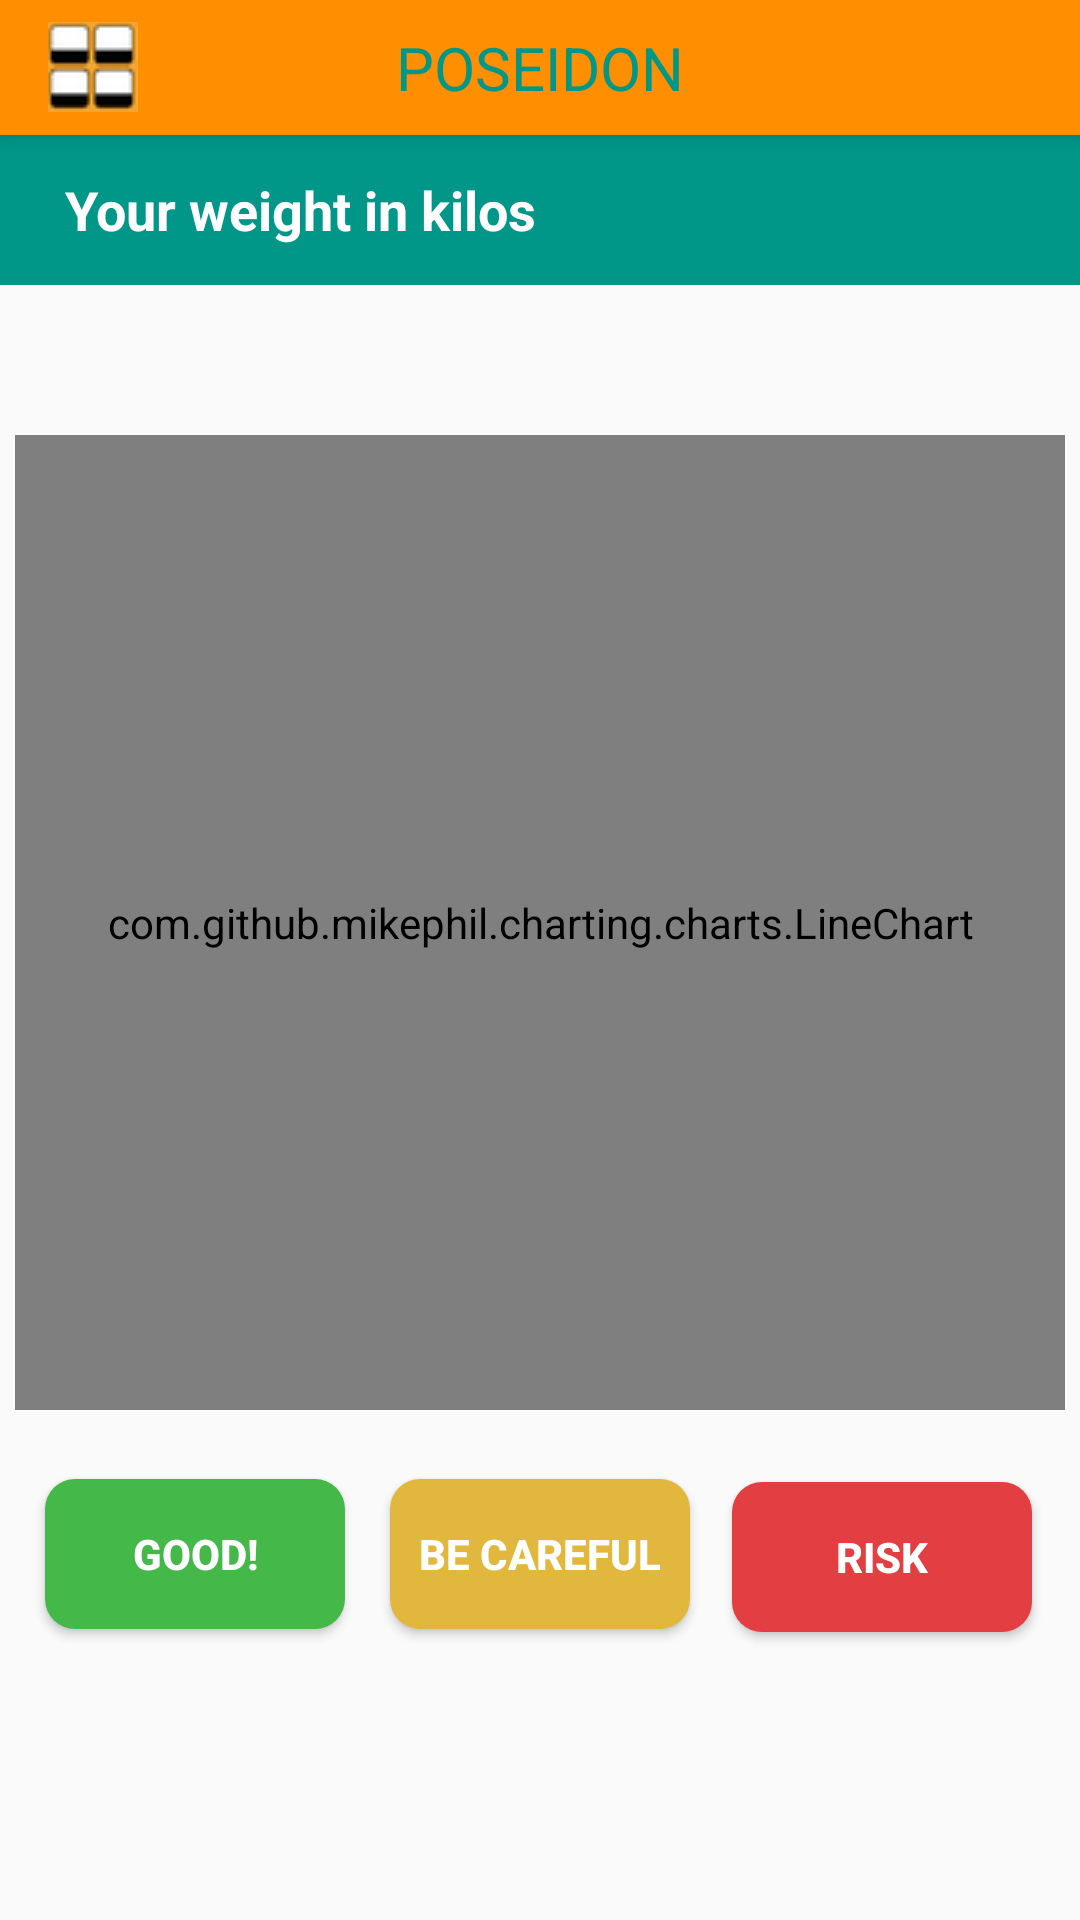

Point at icon controls on the screen. Image size 1080*1920, points as [x,y].
homebutton: [93,67]
